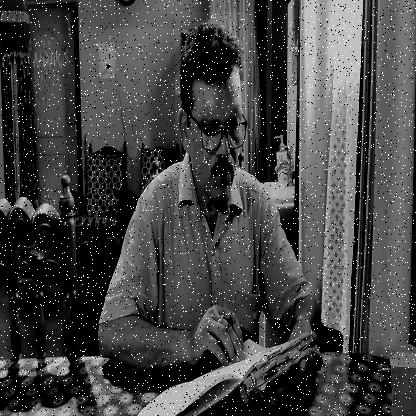Normal: (175, 12, 248, 215)
